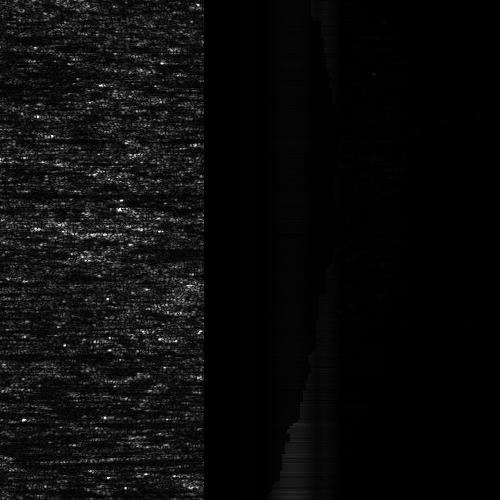rock: (0, 187, 11, 202)
shadow: (0, 187, 141, 202)
